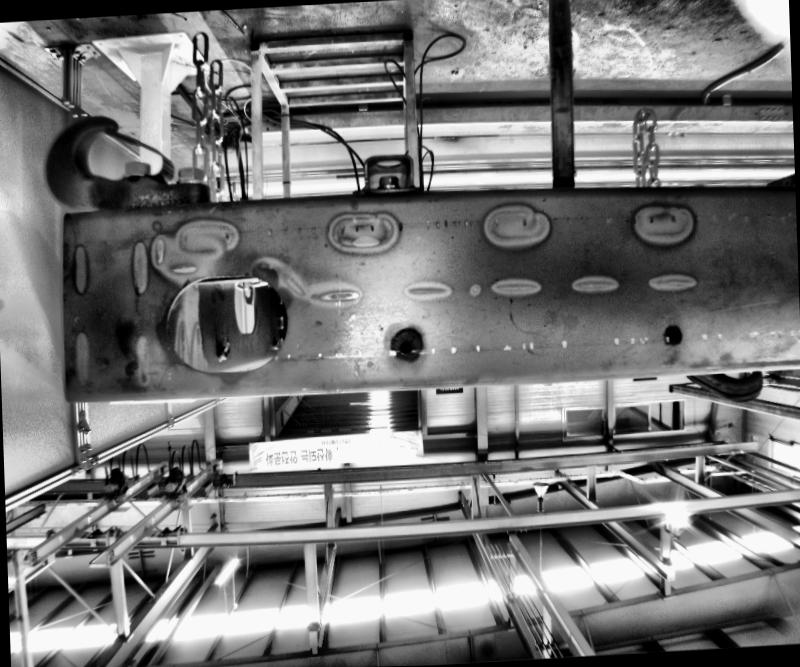bolt: (374, 171, 400, 190)
bracket: (342, 140, 430, 193)
hole: (153, 270, 288, 378), (395, 336, 414, 356), (665, 324, 682, 344)
